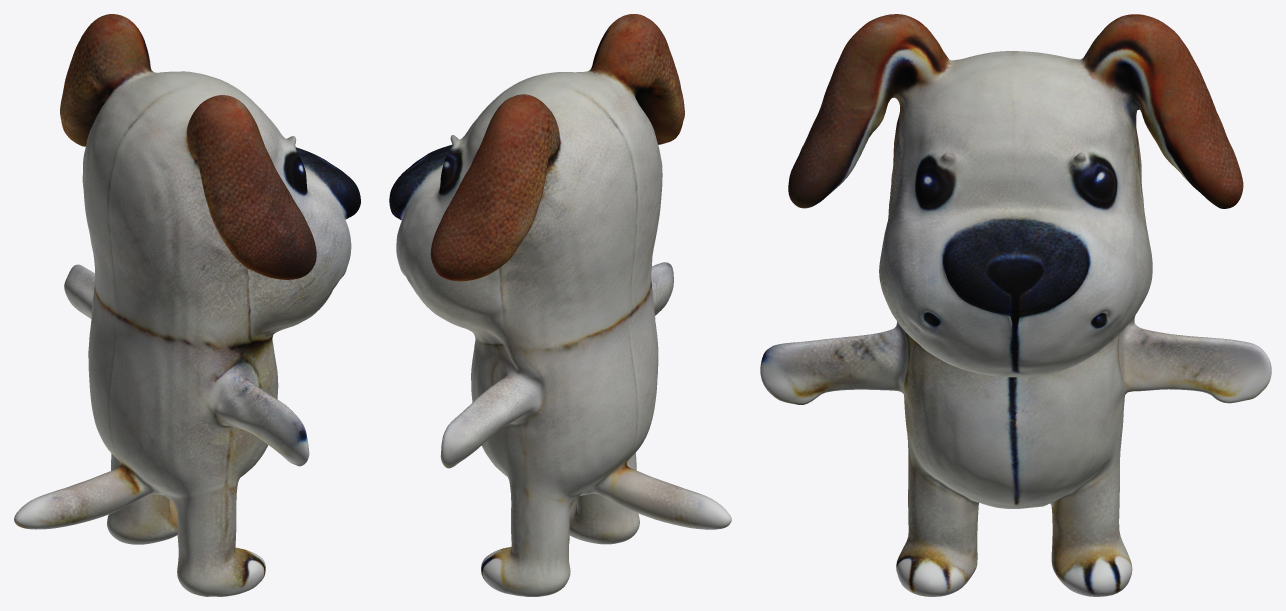
The model's file is 28b46b6447d5_a_stubby_white_stuf.fbx.
The picture shows the model from 3 angles, left to right: view 1: azimuth 30°, elevation 25°; view 2: azimuth 150°, elevation 25°; view 3: azimuth 270°, elevation 25°; orthographic projection. The views are drawn at different scales.
Visible parts, largest first — view 1: high_poly; view 2: high_poly; view 3: high_poly.
Boxes of the visible parts, box(x1,y1,x2,y2) form: high_poly: box(14, 14, 360, 596); high_poly: box(389, 14, 731, 596); high_poly: box(760, 14, 1271, 596).
Bounding box in the file's own units: 68.16 × 100 × 83.28.
